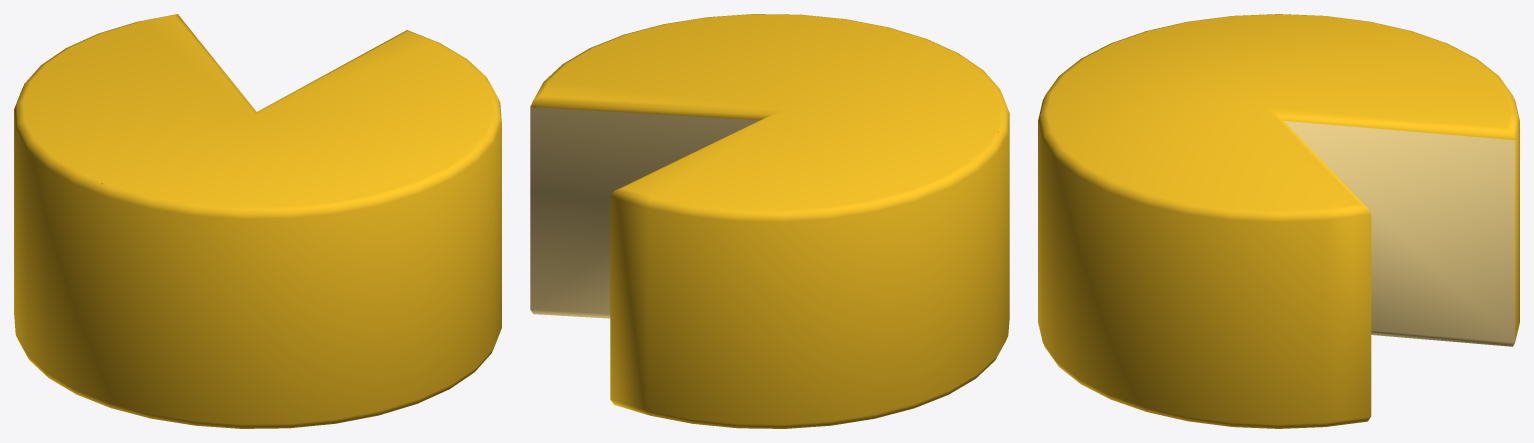
File: Cheese_Wheel.fbx
The picture shows the model from 3 angles, left to right: view 1: azimuth 30°, elevation 25°; view 2: azimuth 150°, elevation 25°; view 3: azimuth 270°, elevation 25°; orthographic projection.
Visible parts, largest first — view 1: CheeseWheel; view 2: CheeseWheel; view 3: CheeseWheel.
Part boxes in pixels (x1=…): CheeseWheel: x1=14, y1=14, x2=501, y2=428; CheeseWheel: x1=530, y1=14, x2=1009, y2=428; CheeseWheel: x1=1038, y1=14, x2=1519, y2=428.
Size of what is drawn, in the model's own units: 38.61 by 19.31 by 38.61.
